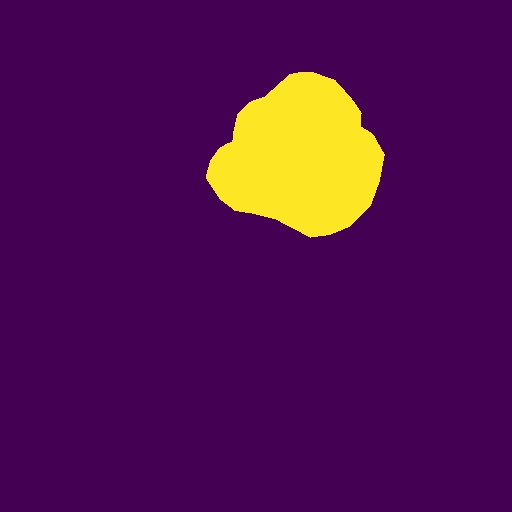Gliomia_tumour: (206, 72, 385, 238)
